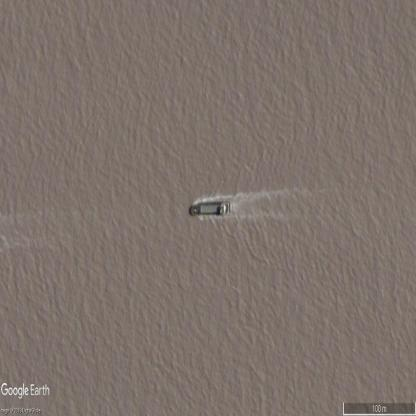ship: (189, 201, 230, 216)
